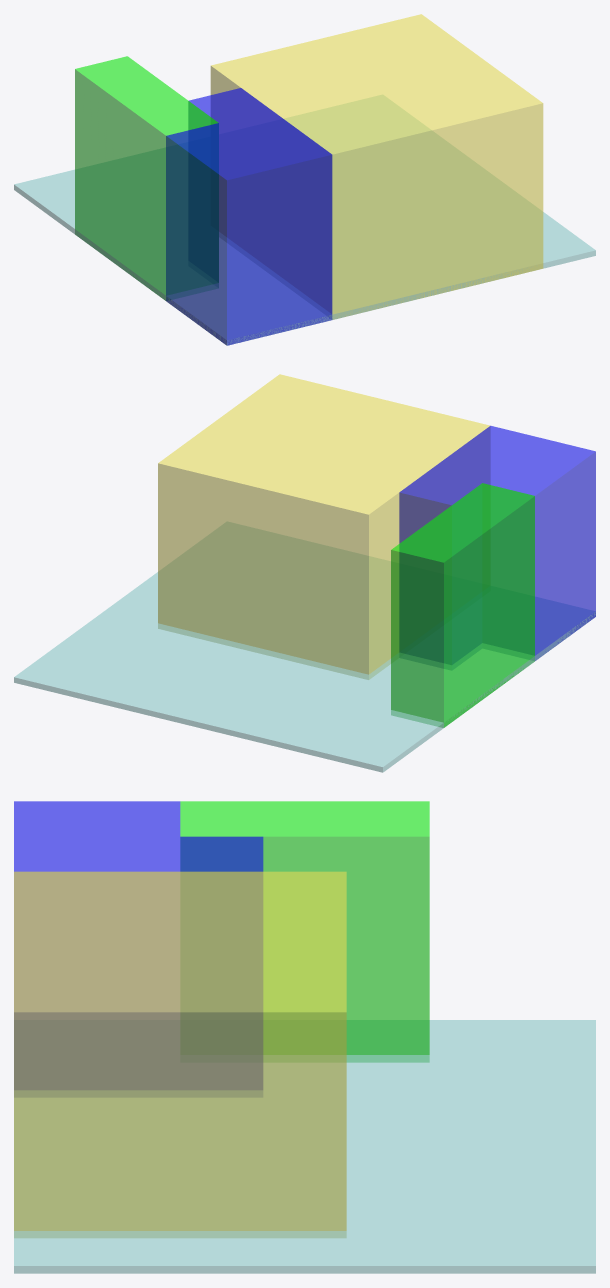
Rendered from FitTo.glb.
The picture shows the model from 3 angles, top to bottom: view 1: azimuth 30°, elevation 25°; view 2: azimuth 150°, elevation 25°; view 3: azimuth 270°, elevation 25°; orthographic projection. The views are drawn at different scales.
Parts seen in each view (by area): view 1: ccdcb86d-372b-4f90-81d8-cabddded46b3_mesh, 1287b840-00f5-4b9d-a325-6d3193a3d460_mesh, 729ad21f-e57b-45af-a1f9-6d36a2f7982b_mesh, 27b484e0-6fa2-4f44-b996-6cf974783207_mesh; view 2: ccdcb86d-372b-4f90-81d8-cabddded46b3_mesh, 1287b840-00f5-4b9d-a325-6d3193a3d460_mesh, 729ad21f-e57b-45af-a1f9-6d36a2f7982b_mesh, 27b484e0-6fa2-4f44-b996-6cf974783207_mesh; view 3: 1287b840-00f5-4b9d-a325-6d3193a3d460_mesh, ccdcb86d-372b-4f90-81d8-cabddded46b3_mesh, 729ad21f-e57b-45af-a1f9-6d36a2f7982b_mesh, 27b484e0-6fa2-4f44-b996-6cf974783207_mesh.
Part boxes in pixels (x1,y1,x2,y2): ccdcb86d-372b-4f90-81d8-cabddded46b3_mesh: [210, 14, 543, 319]; 1287b840-00f5-4b9d-a325-6d3193a3d460_mesh: [14, 95, 595, 345]; 729ad21f-e57b-45af-a1f9-6d36a2f7982b_mesh: [166, 88, 332, 345]; 27b484e0-6fa2-4f44-b996-6cf974783207_mesh: [75, 56, 218, 300]; ccdcb86d-372b-4f90-81d8-cabddded46b3_mesh: [158, 374, 490, 679]; 1287b840-00f5-4b9d-a325-6d3193a3d460_mesh: [14, 522, 595, 772]; 729ad21f-e57b-45af-a1f9-6d36a2f7982b_mesh: [399, 426, 595, 664]; 27b484e0-6fa2-4f44-b996-6cf974783207_mesh: [391, 483, 534, 727]; 1287b840-00f5-4b9d-a325-6d3193a3d460_mesh: [14, 1020, 595, 1273]; ccdcb86d-372b-4f90-81d8-cabddded46b3_mesh: [14, 871, 346, 1237]; 729ad21f-e57b-45af-a1f9-6d36a2f7982b_mesh: [14, 801, 263, 1089]; 27b484e0-6fa2-4f44-b996-6cf974783207_mesh: [180, 801, 429, 1062].
Size of the model in its own units: 7 by 3 by 7.
